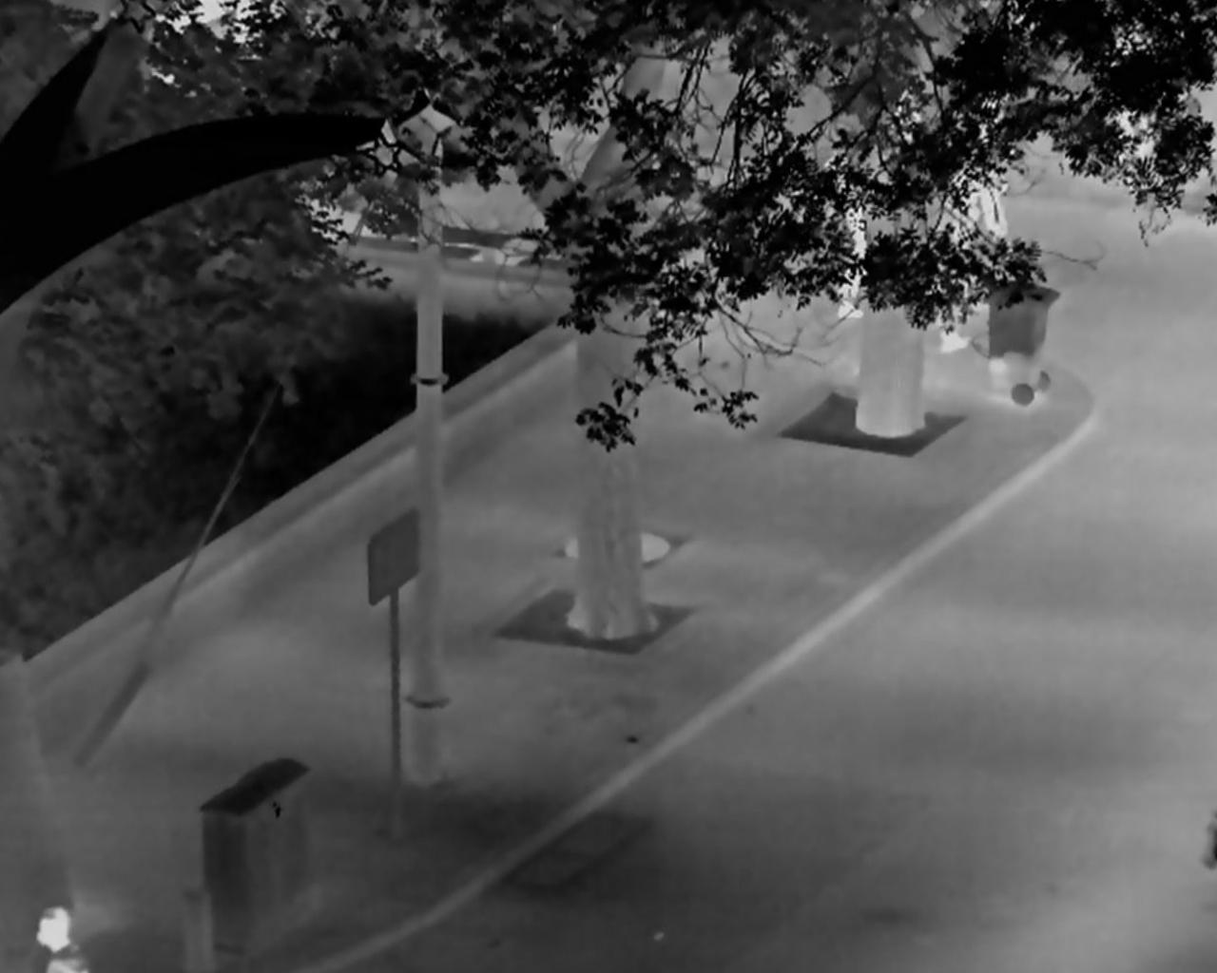person: (944, 115, 1022, 258), (913, 174, 973, 353), (817, 146, 870, 317), (37, 906, 92, 973)
